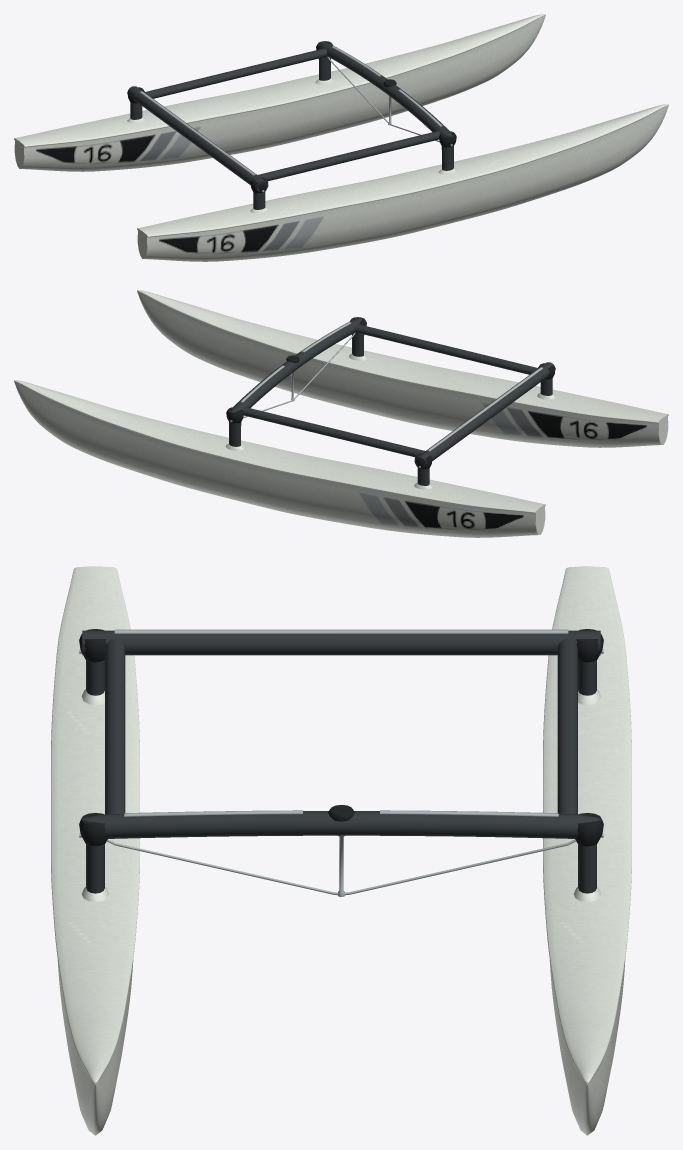
The model's file is hobie-hulls.glb.
3 renders of one model, top to bottom at view 1: azimuth 30°, elevation 25°; view 2: azimuth 150°, elevation 25°; view 3: azimuth 270°, elevation 25°, orthographic. The views are drawn at different scales.
Parts seen in each view (by area): view 1: Starboard hull, Port hull, Hobie trampoline frame; view 2: Port hull, Starboard hull, Hobie trampoline frame; view 3: Hobie trampoline frame, Starboard hull, Port hull.
Boxes of the visible parts, box(x1,y1,x2,y2) form: Starboard hull: box(137, 104, 668, 261); Port hull: box(14, 14, 545, 171); Hobie trampoline frame: box(127, 41, 456, 213); Port hull: box(14, 380, 545, 537); Starboard hull: box(137, 290, 668, 447); Hobie trampoline frame: box(226, 317, 555, 489); Hobie trampoline frame: box(79, 629, 603, 901); Starboard hull: box(51, 566, 139, 1135); Port hull: box(543, 566, 631, 1135).
Size of the model in its own units: 5.04 by 0.876 by 2.41.
Materials: 2 (1 with a texture image).
